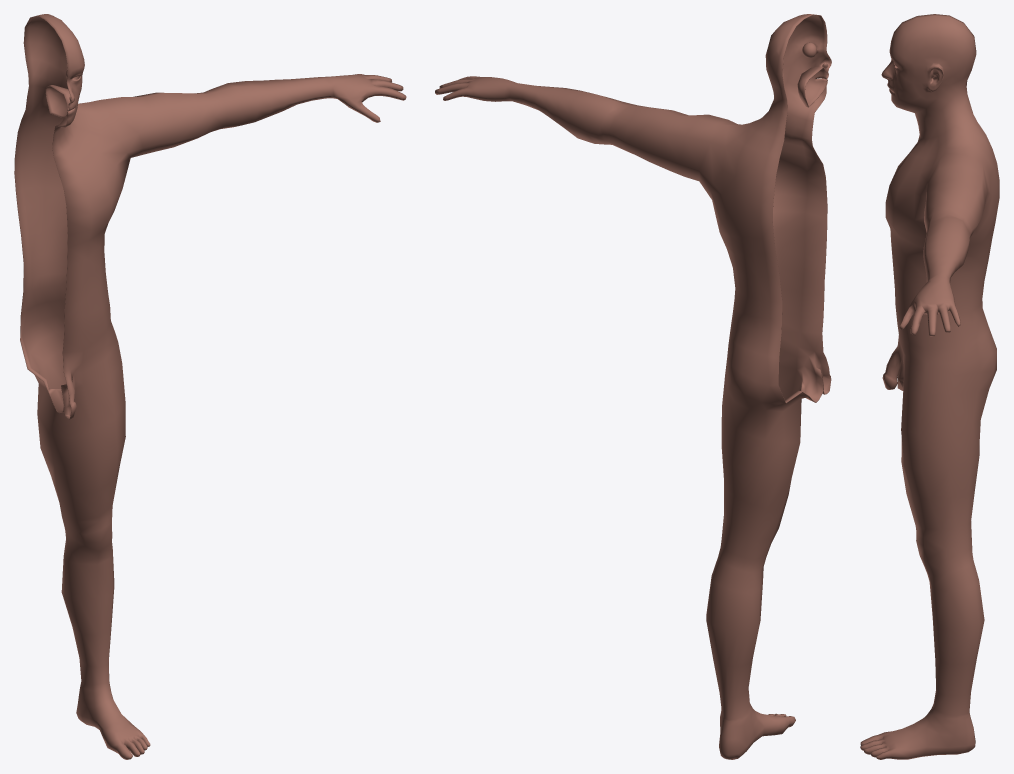
Rendered from HalfSkin.fbx.
The picture shows the model from 3 angles, left to right: view 1: azimuth 30°, elevation 25°; view 2: azimuth 150°, elevation 25°; view 3: azimuth 270°, elevation 25°; orthographic projection. The views are drawn at different scales.
Parts seen in each view (by area): view 1: HalfSkin; view 2: HalfSkin; view 3: HalfSkin.
Part boxes in pixels (x1,y1,x2,y2): HalfSkin: [14, 14, 406, 759]; HalfSkin: [435, 14, 831, 759]; HalfSkin: [860, 14, 999, 759].
Size of the model in its own units: 80.4 by 156 by 27.77.
